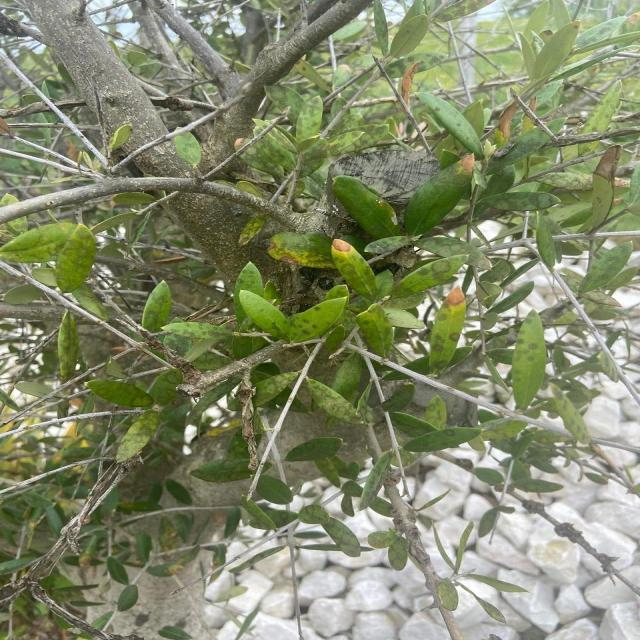Peacock Eye: (233, 86, 364, 178), (420, 92, 483, 158), (511, 310, 547, 410), (391, 254, 468, 298), (430, 287, 465, 373), (576, 242, 632, 295), (306, 377, 366, 424), (55, 225, 96, 292), (290, 296, 349, 342), (331, 239, 375, 298), (239, 290, 289, 340), (550, 384, 591, 444), (116, 409, 160, 462), (403, 427, 480, 453), (356, 304, 393, 356), (87, 380, 153, 408), (361, 452, 390, 510), (385, 52, 447, 78), (480, 192, 559, 212), (253, 372, 298, 407), (141, 280, 171, 332), (285, 437, 342, 462), (59, 310, 77, 382), (162, 322, 231, 340), (149, 370, 183, 406), (239, 214, 267, 246), (426, 396, 446, 429)
